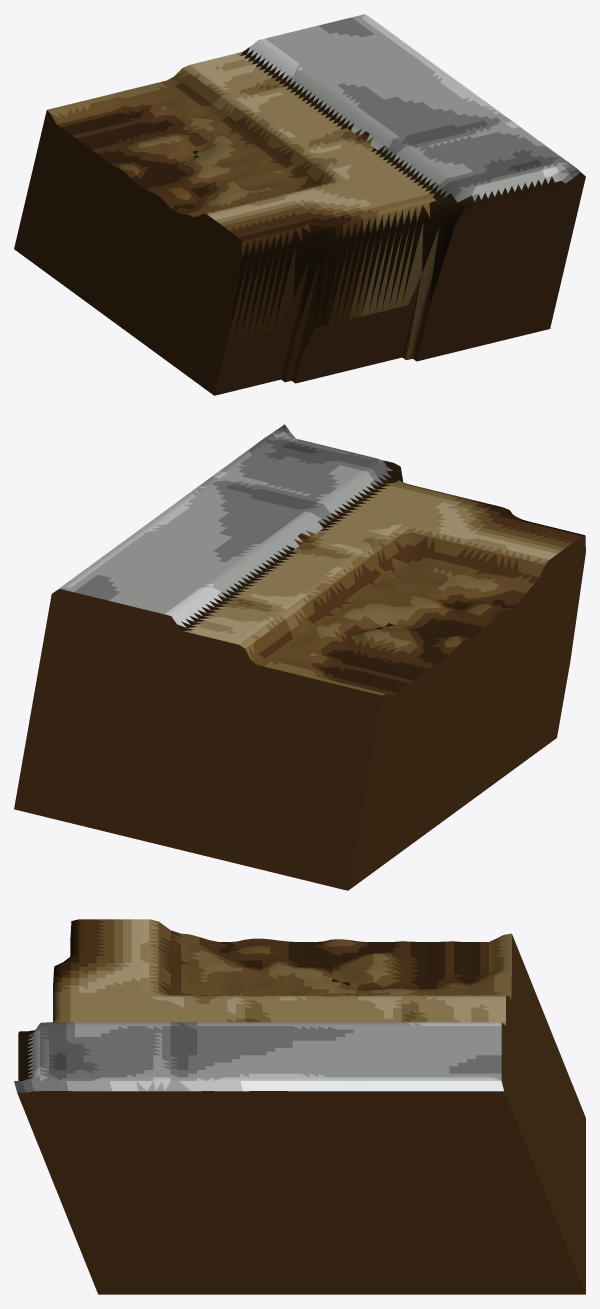
The model's file is skull_chest_b3.glb.
3 views of the same model, one above another, from view 1: azimuth 30°, elevation 25°; view 2: azimuth 150°, elevation 25°; view 3: azimuth 270°, elevation 25° (orthographic). The views are drawn at different scales.
Parts seen in each view (by area): view 1: skull_chest_b3; view 2: skull_chest_b3; view 3: skull_chest_b3.
Boxes of the visible parts, <box> form: skull_chest_b3: <box>14,14,585,395</box>; skull_chest_b3: <box>14,424,585,890</box>; skull_chest_b3: <box>14,919,585,1294</box>.
Bounding box in the file's own units: 24 × 13.3 × 32.84.
